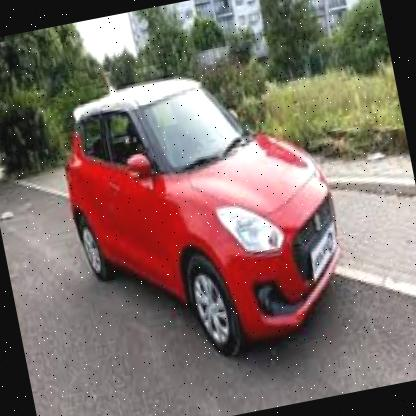car: (46, 44, 366, 387)
